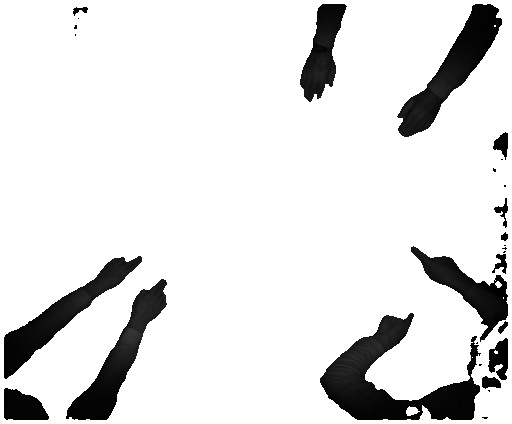hand: (410, 240, 460, 286), (392, 94, 438, 143), (296, 54, 335, 103), (94, 256, 144, 291), (133, 279, 167, 329), (376, 312, 415, 349)
